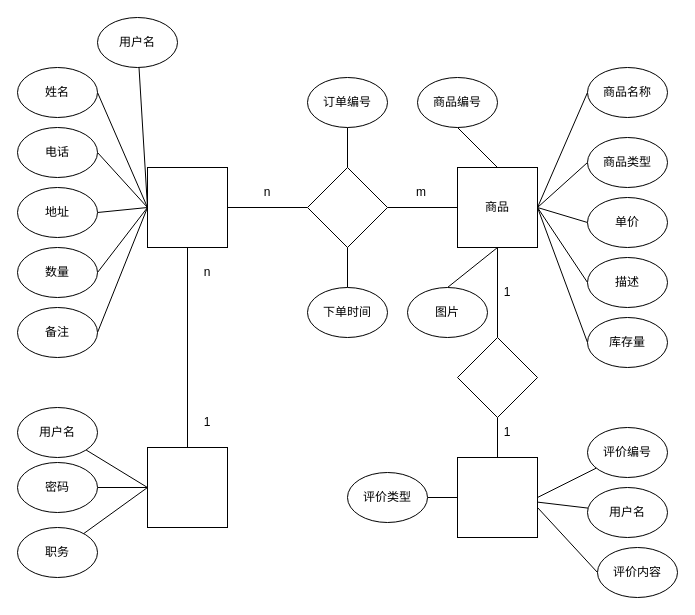
Image size: 695x615. Some labels were removed from this diagram. Here are the shapes that lost their labels. From the top down, the box of each, then its label:
(146, 166, 228, 248): 客户
(306, 166, 388, 248): 下单
(456, 336, 538, 418): 包含
(146, 446, 228, 528): 管理员
(456, 456, 538, 538): 评价
